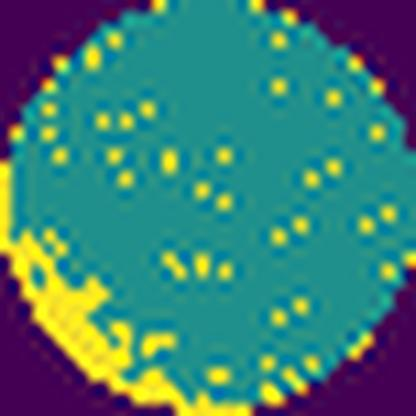Edge-Loc: (0, 153, 257, 416)
